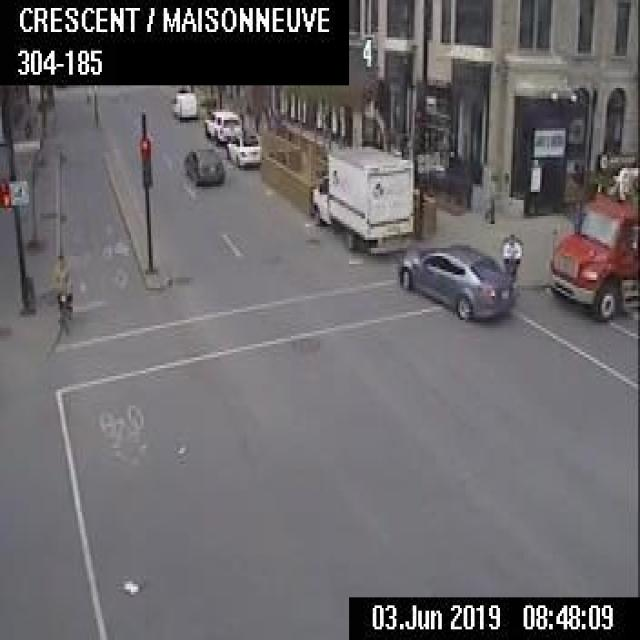cyclist: (53, 248, 71, 331)
pedestrian: (500, 229, 520, 275)
vehicle: (542, 181, 638, 320), (309, 145, 412, 252), (396, 241, 514, 319), (203, 106, 241, 144), (183, 146, 223, 182), (226, 130, 261, 166), (173, 85, 198, 120)
